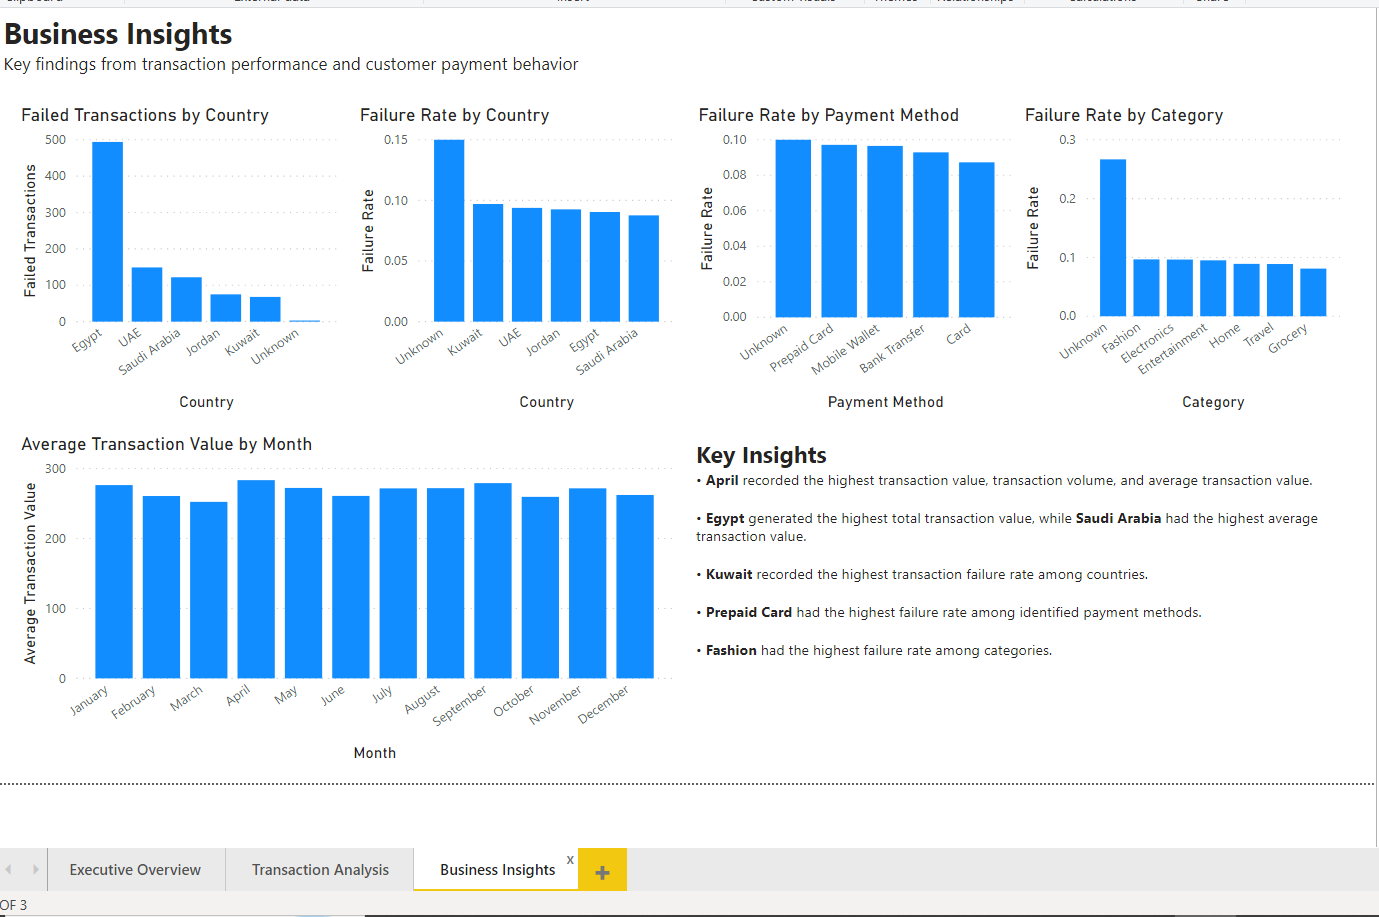

This screenshot's page, from the dashboard's own definition file:
{"tool":"powerbi","page":{"name":"Business Insights","canvas":[1280,720],"ordinal":2},"visuals":[{"type":"clusteredColumnChart","fields":{"Category":["Sheet1.Country"],"Y":["Sheet1.Failed Transactions"]},"box":[16,90,303,290],"z":0},{"type":"textbox","box":[0,0,554,82.5],"z":1000},{"type":"clusteredColumnChart","fields":{"Category":["Sheet1.Country"],"Y":["Sheet1.Failure Rate"]},"box":[331,90,303,290],"z":2000},{"type":"clusteredColumnChart","fields":{"Category":["Sheet1.Payment_Method"],"Y":["Sheet1.Failure Rate"]},"box":[646,90,303,290],"z":3000},{"type":"clusteredColumnChart","fields":{"Category":["Sheet1.Category"],"Y":["Sheet1.Failure Rate"]},"box":[949,90,303,290],"z":4000},{"type":"clusteredColumnChart","fields":{"Category":["Sheet1.Sheet 1.Variation.Date Hierarchy.Month"],"Y":["Sheet1.Average Transaction Value"]},"box":[16,395,616,310],"z":7000},{"type":"textbox","box":[644,395,616,310],"z":10000}]}

Visuals, with their boxes on the page's 1280x720 design canvas (x1, y1, x2, y2). These are canvas units, not pixel positions in the 1379x917 screenshot, which may show the page scaled, cropped or inside an application window:
clusteredColumnChart - Sheet1.Country x Sheet1.Failed Transactions: region(16, 90, 319, 380)
textbox: region(0, 0, 554, 82)
clusteredColumnChart - Sheet1.Country x Sheet1.Failure Rate: region(331, 90, 634, 380)
clusteredColumnChart - Sheet1.Payment_Method x Sheet1.Failure Rate: region(646, 90, 949, 380)
clusteredColumnChart - Sheet1.Category x Sheet1.Failure Rate: region(949, 90, 1252, 380)
clusteredColumnChart - Sheet1.Sheet 1.Variation.Date Hierarchy.Month x Sheet1.Average Transaction Value: region(16, 395, 632, 705)
textbox: region(644, 395, 1260, 705)
